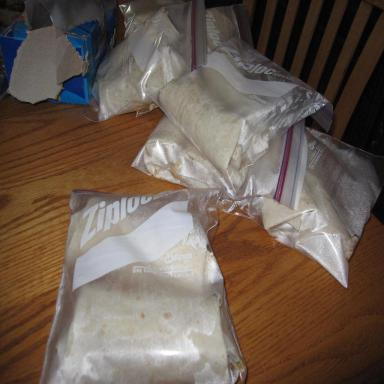plasticbag: (39, 188, 244, 383), (148, 32, 332, 195), (213, 123, 383, 290), (130, 110, 309, 236), (78, 0, 210, 126), (116, 0, 206, 116), (203, 2, 255, 53)
